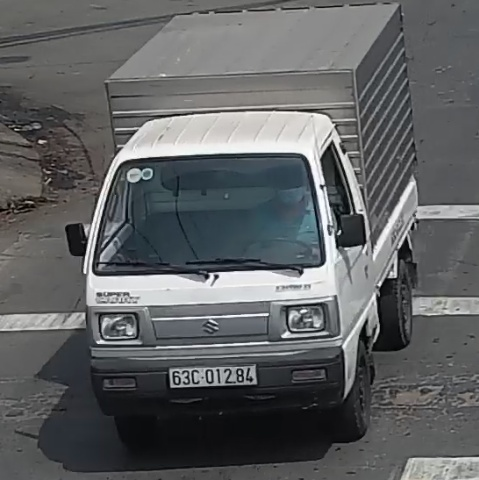vehicle plate: (161, 356, 269, 394)
